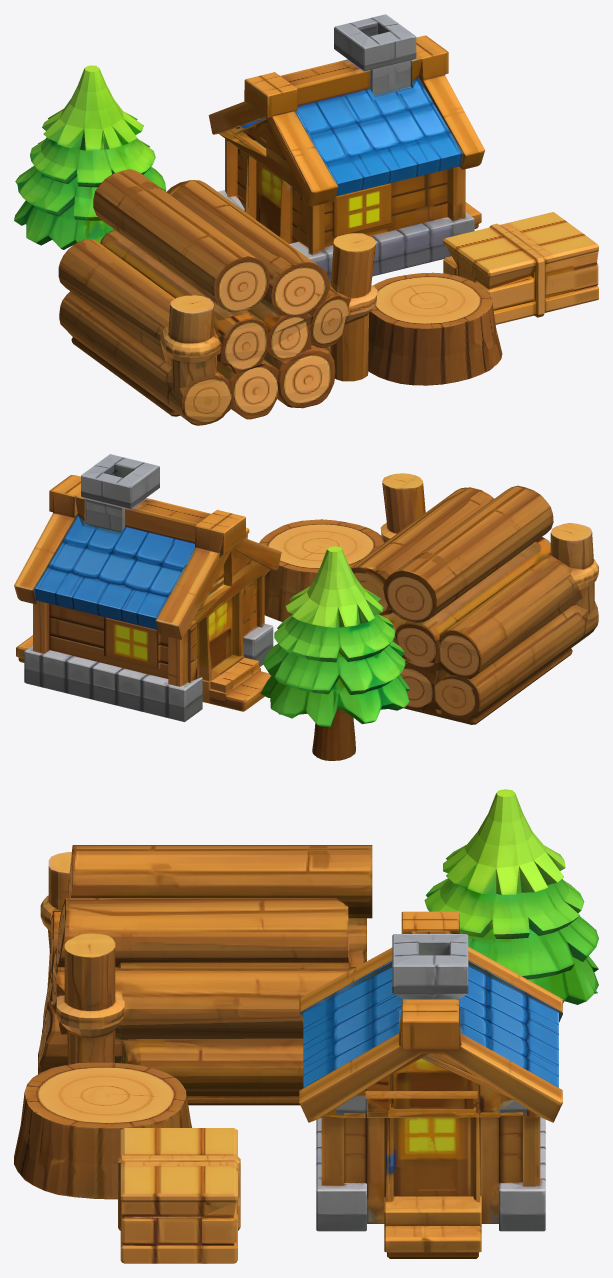
Rendered from Meshy_AI_Cozy_Log_Cabin_in_the_0629123725_texture.fbx.
3 views of the same model, one above another, from view 1: azimuth 30°, elevation 25°; view 2: azimuth 150°, elevation 25°; view 3: azimuth 270°, elevation 25° (orthographic). The views are drawn at different scales.
Visible parts, largest first — view 1: temp; view 2: temp; view 3: temp.
Boxes of the visible parts, x1,y1,x2,y2 form: temp: [14, 14, 598, 425]; temp: [14, 454, 598, 760]; temp: [14, 789, 598, 1263].
Size of the model in its own units: 224 by 100 by 202.
1 material, 1 textured.
